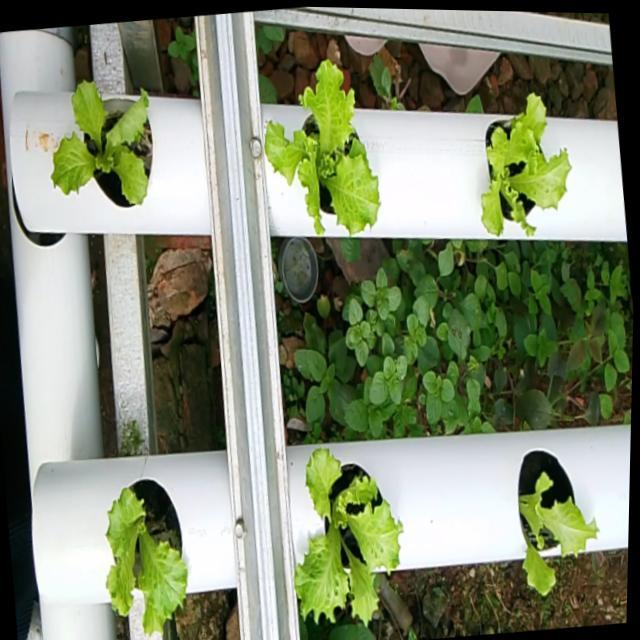Baby: (263, 65, 378, 240), (294, 450, 401, 635), (51, 86, 152, 214), (478, 96, 566, 238), (107, 483, 187, 638), (515, 449, 594, 593)
